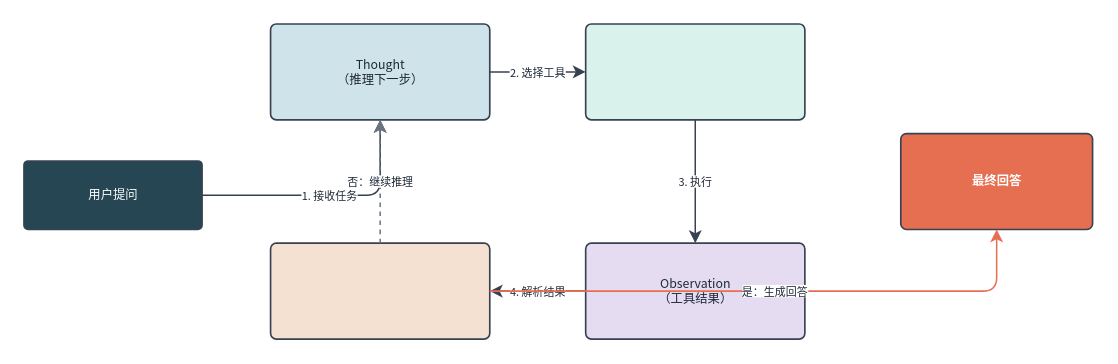
Image size: 1118x364. Some labels were removed from this diagram. The box of each missing label's shape, as (x1, y1, x2, y2) in pixels:
Action （调用工具）: (584, 22, 805, 120)
证据是否充分？: (269, 242, 490, 339)
